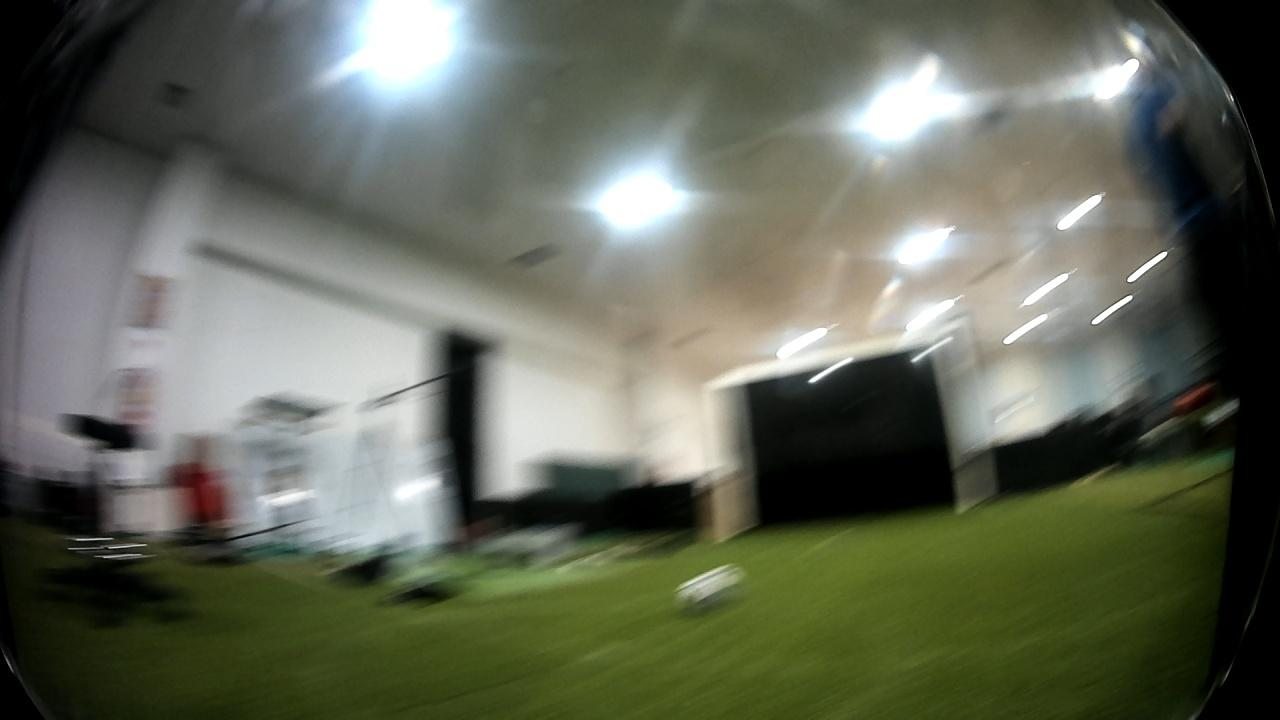ball: (664, 557, 755, 621)
